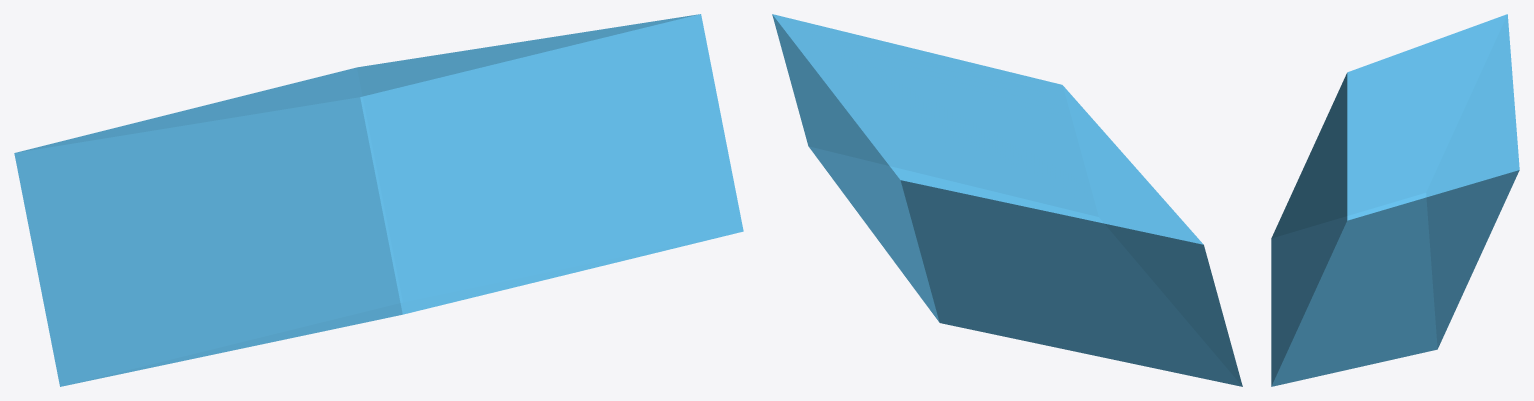
File: Event_421556567_HBrechit_8.fbx
3 views of the same model, side by side, from view 1: azimuth 30°, elevation 25°; view 2: azimuth 150°, elevation 25°; view 3: azimuth 270°, elevation 25° (orthographic). The views are drawn at different scales.
Visible parts, largest first — view 1: Model; view 2: Model; view 3: Model.
Boxes of the visible parts, <box> form: Model: <box>14,14,743,386</box>; Model: <box>772,14,1242,386</box>; Model: <box>1271,14,1519,386</box>.
Size of the model in its own units: 1.24 by 0.5281 by 0.5028.
